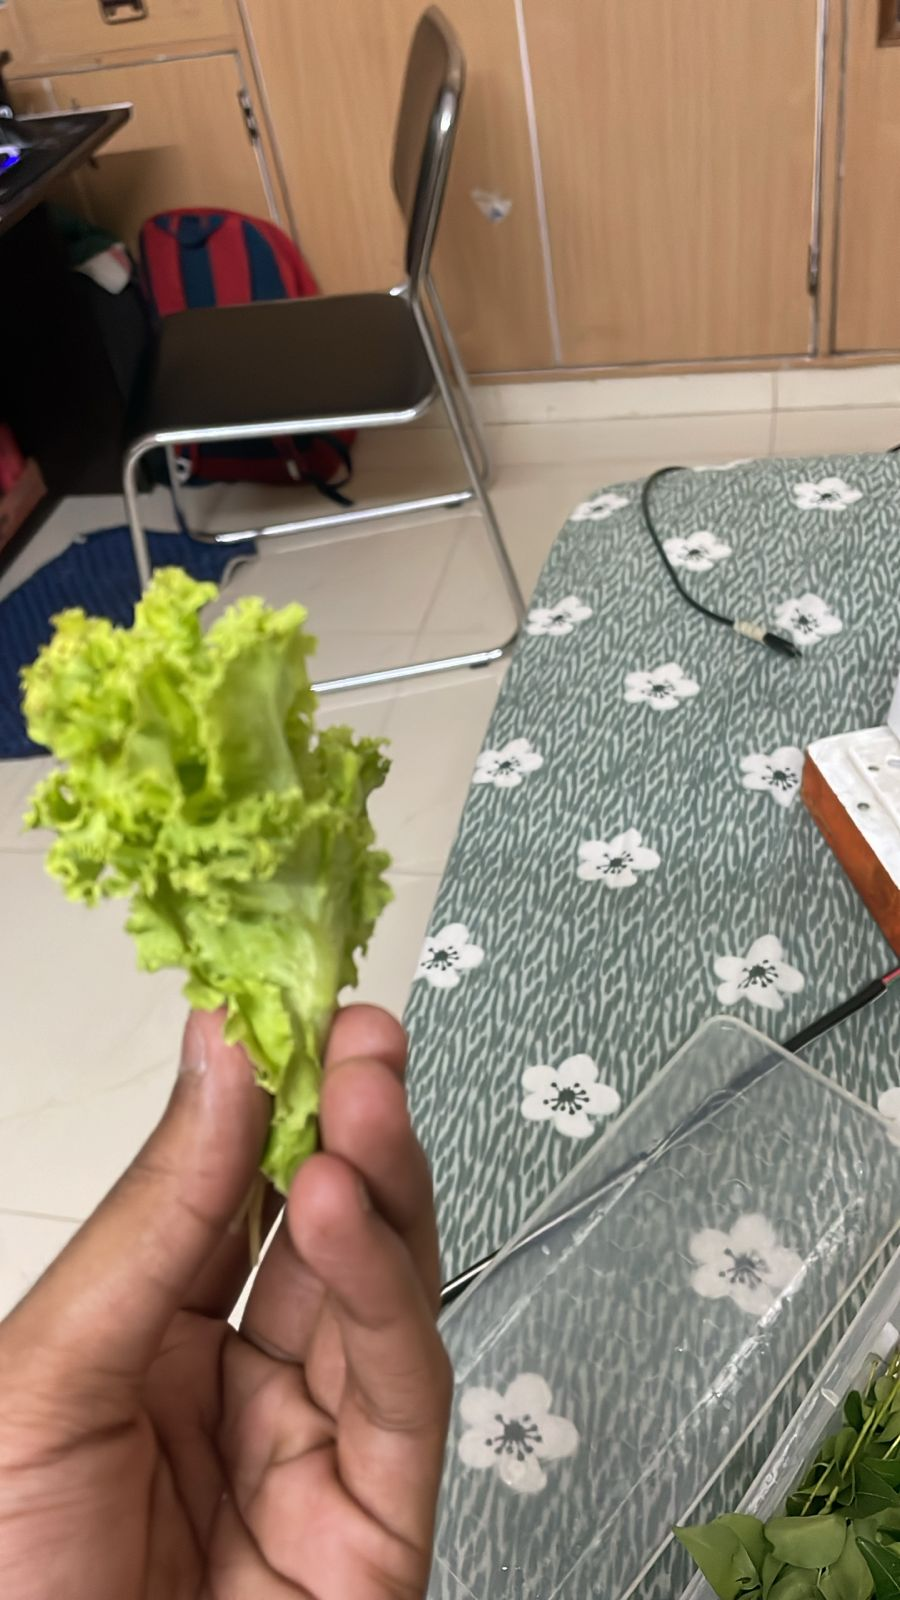wet: (9, 563, 373, 990)
